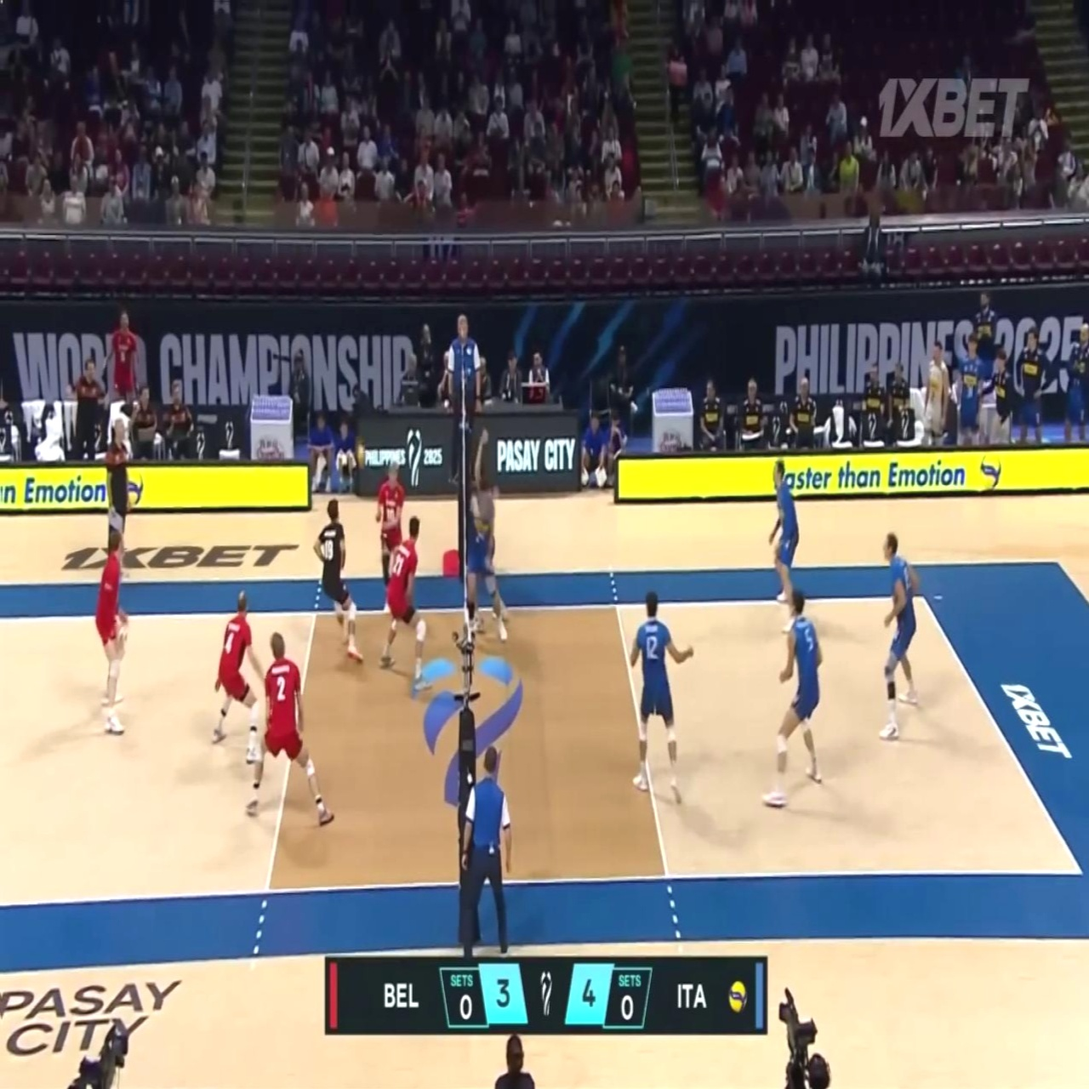ball: (356, 443, 364, 467)
